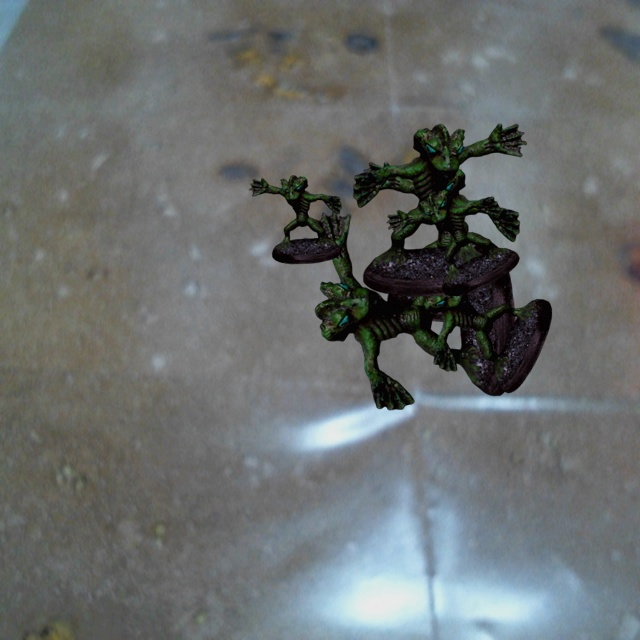pieza_juego: (312, 209, 515, 409), (353, 123, 526, 296), (361, 162, 519, 322), (424, 234, 551, 392), (386, 190, 519, 295), (249, 175, 341, 263)
